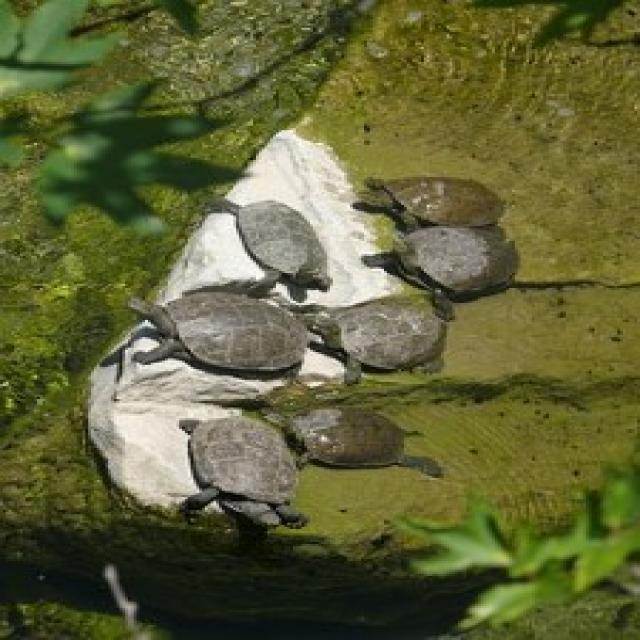Sea turtle: (97, 294, 299, 372), (177, 418, 296, 534), (340, 170, 555, 232), (366, 230, 544, 298), (202, 198, 324, 285), (319, 296, 456, 370), (279, 398, 414, 464)
